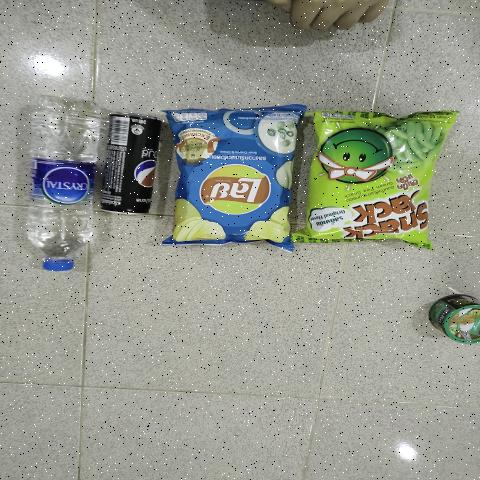crystal: (29, 101, 93, 276)
lay_blue: (187, 113, 290, 238)
pepsi_black: (103, 114, 164, 216)
snack_jack: (314, 121, 437, 239)
